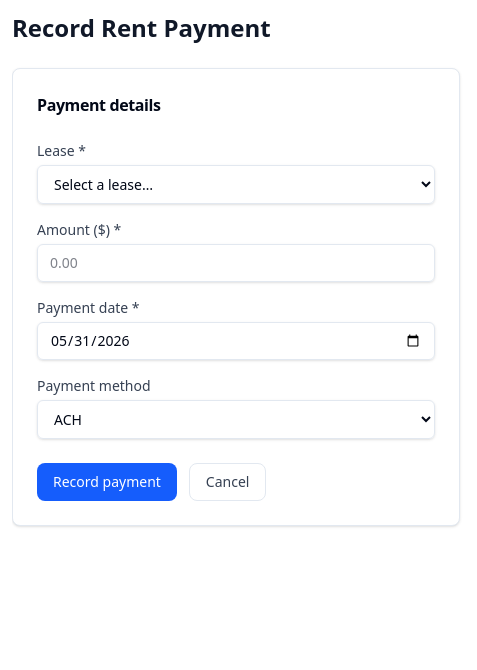
it: RentCollectionPage › shows E2 (token-rejection) with Reload page button
The width and height of the screenshot is (477, 670).
Select "Maria Santos — 150 Lexington Ct ($1,250/mo)" in the dropdown labelled "Lease *": (236, 184) 37,165 -> 435,204
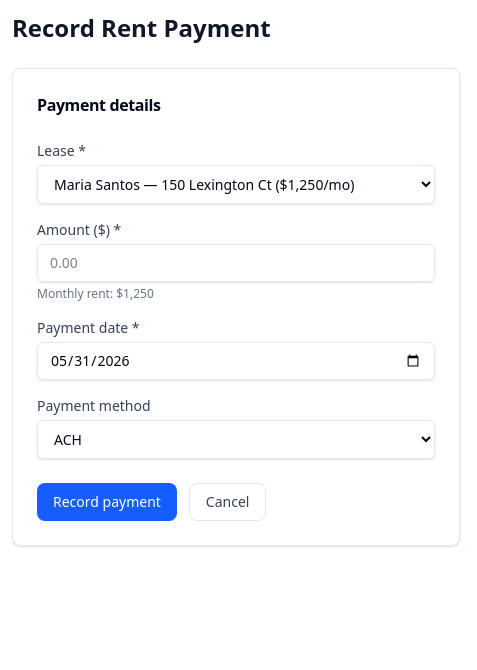
In the number field labelled "Amount ($) *": (236, 263) 37,244 -> 435,282, type "1250"
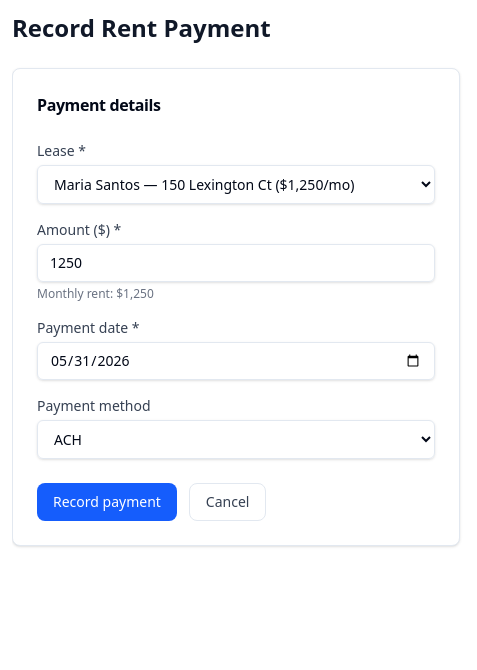
Submit the form named "record payment", box 37,141 -> 435,521
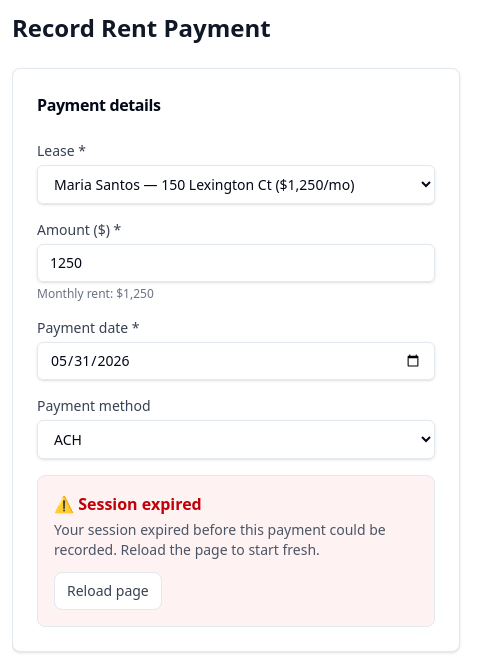
Expected: the message is shown, 37,475 -> 435,627
Expected: the button "Reload page" is shown, 54,572 -> 162,610
